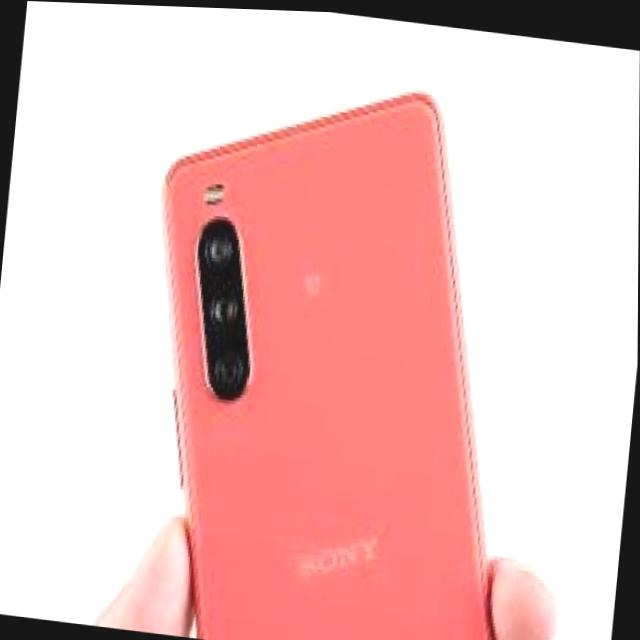Smartphone: (131, 72, 521, 640)
